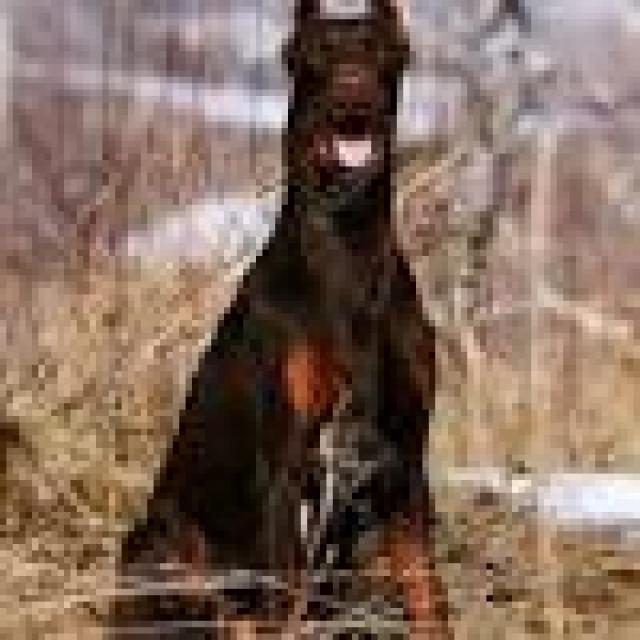Dog: (93, 2, 454, 640)
